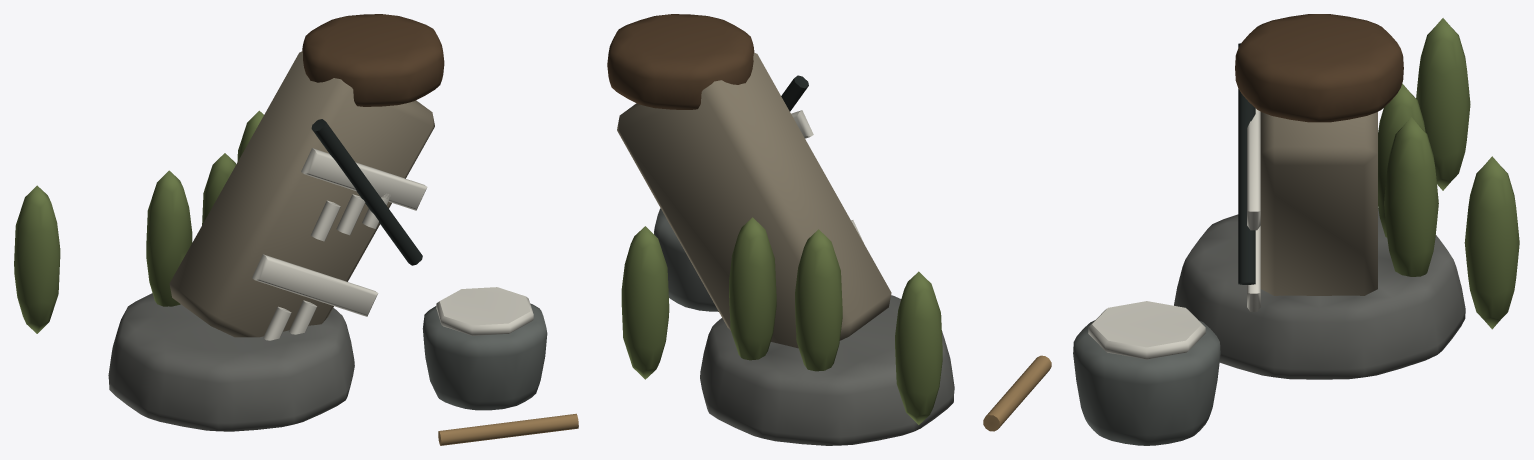
The model's file is milepost_c.glb.
3 views of the same model, side by side, from view 1: azimuth 30°, elevation 25°; view 2: azimuth 150°, elevation 25°; view 3: azimuth 270°, elevation 25° (orthographic). The views are drawn at different scales.
Parts seen in each view (by area): view 1: Surface; view 2: Surface; view 3: Surface.
Boxes of the visible parts, box(x1,y1,x2,y2) form: Surface: box(14, 14, 578, 445); Surface: box(607, 14, 954, 445); Surface: box(983, 14, 1519, 445).
Size of the model in its own units: 1.54 by 1.17 by 1.55.
